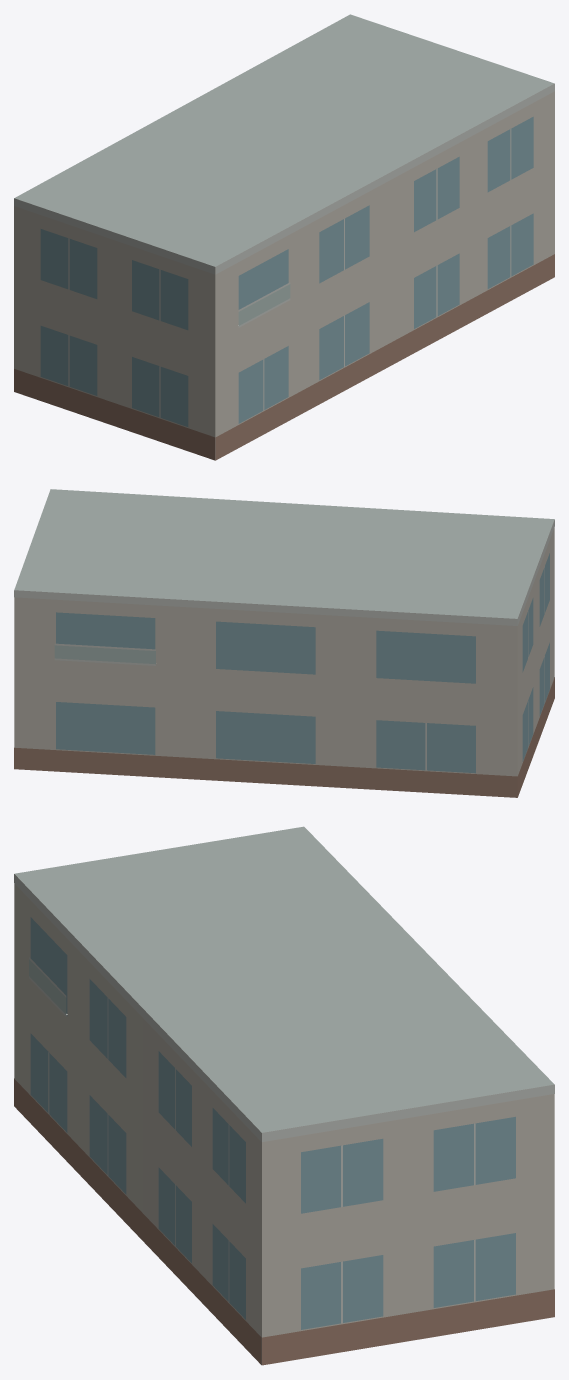
The model's file is survey-upis-32850550.glb.
3 renders of one model, top to bottom at view 1: azimuth 30°, elevation 25°; view 2: azimuth 150°, elevation 25°; view 3: azimuth 270°, elevation 25°, orthographic. The views are drawn at different scales.
Parts seen in each view (by area): view 1: survey-upis-32850550.tmp; view 2: survey-upis-32850550.tmp; view 3: survey-upis-32850550.tmp.
Part boxes in pixels (x1,y1,x2,y2): survey-upis-32850550.tmp: [14, 14, 554, 460]; survey-upis-32850550.tmp: [14, 489, 554, 797]; survey-upis-32850550.tmp: [14, 826, 554, 1365].
Bounding box in the file's own units: 17.26 × 6.1 × 12.87.
